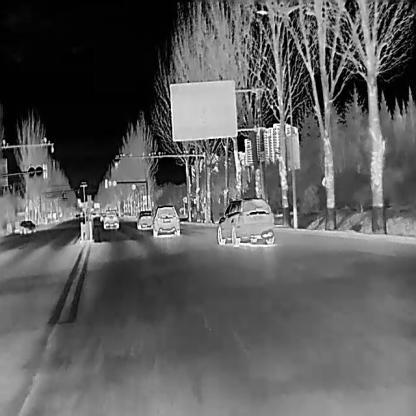car: (215, 197, 274, 247), (152, 204, 180, 237), (136, 210, 153, 229), (102, 209, 118, 229), (16, 220, 35, 234)
